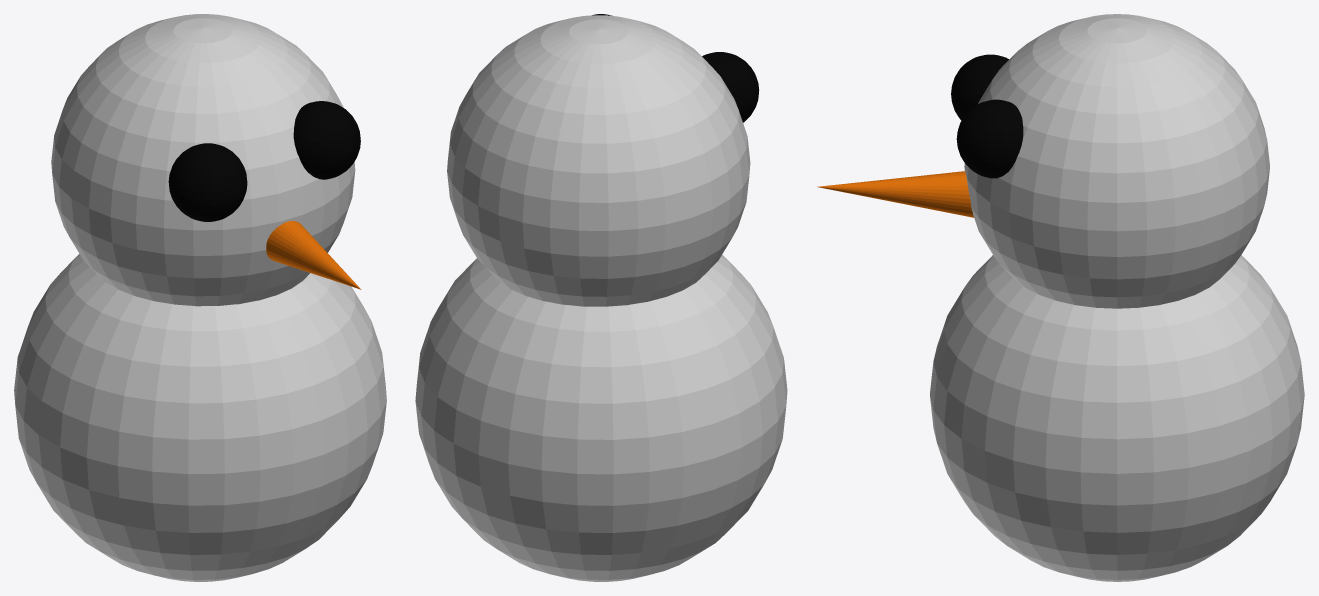
The model's file is snowman.fbx.
3 views of the same model, side by side, from view 1: azimuth 30°, elevation 25°; view 2: azimuth 150°, elevation 25°; view 3: azimuth 270°, elevation 25° (orthographic).
Parts seen in each view (by area): view 1: Sphere; view 2: Sphere; view 3: Sphere.
Part boxes in pixels (x1,y1,x2,y2): Sphere: (14,14,386,581); Sphere: (415,14,787,581); Sphere: (817,14,1304,581).
Size of the model in its own units: 200 by 317 by 261.
